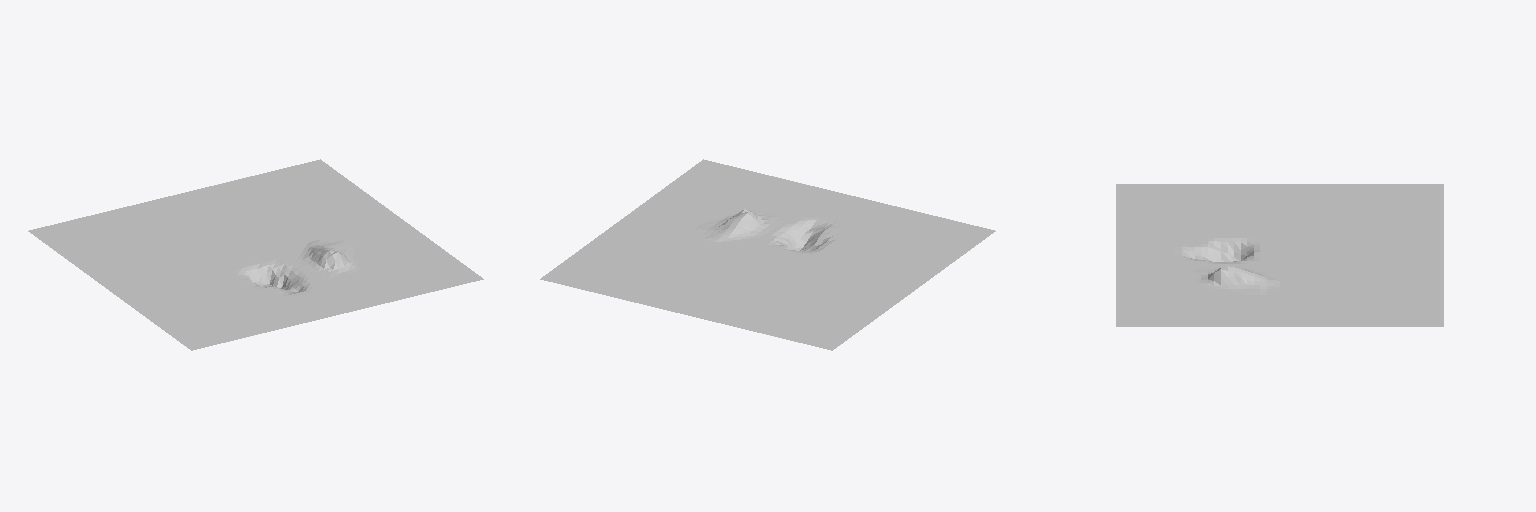
File: Ground.obj
The picture shows the model from 3 angles: view 1: azimuth 30°, elevation 25°; view 2: azimuth 150°, elevation 25°; view 3: azimuth 270°, elevation 25°; orthographic projection.
Visible parts, largest first — view 1: Plane001; view 2: Plane001; view 3: Plane001.
Part boxes in pixels (x1,y1,x2,y2): Plane001: (28, 159, 483, 350); Plane001: (540, 159, 995, 350); Plane001: (1116, 184, 1443, 326).
Size of the model in its own units: 3784 by 314 by 3666.